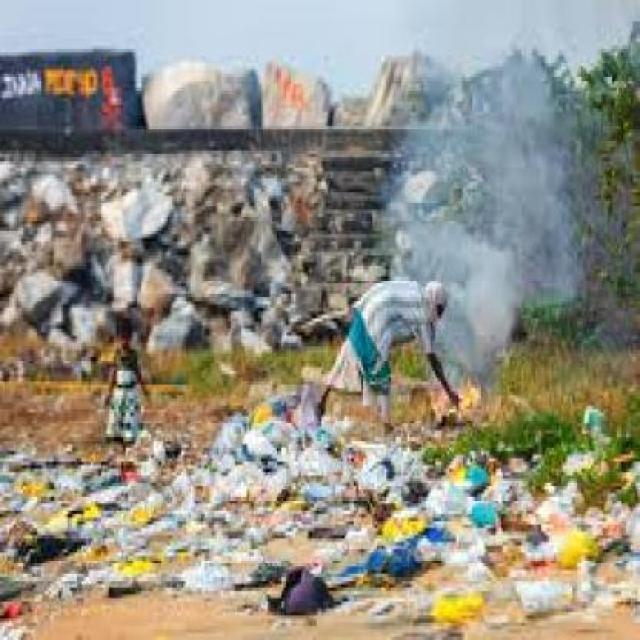garbage: (199, 407, 453, 596), (430, 462, 639, 591), (3, 458, 214, 566)
